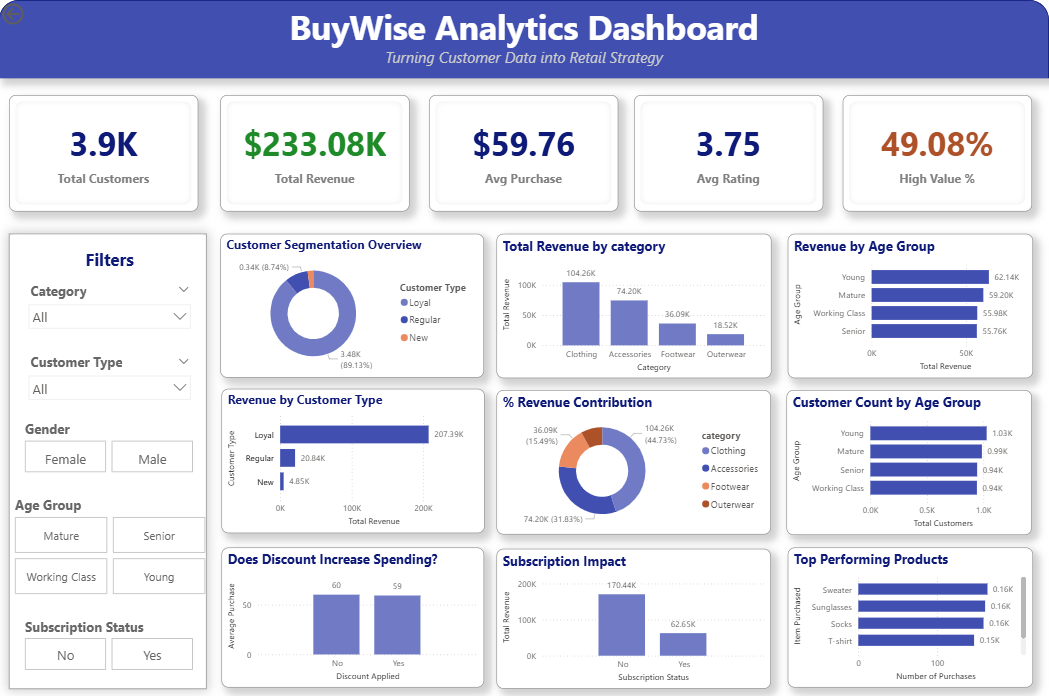

The dashboard page shown, as its layout file describes it:
{"tool":"powerbi","page":{"name":"BuyWise Analytics Dashboard","canvas":[1500,1000],"ordinal":0},"visuals":[{"type":"shape","box":[0,0,1500,112.3],"z":0},{"type":"textbox","box":[0,63.2,1500,49.1],"z":1000},{"type":"cardVisual","fields":{"Data":["customer.Total Customers"]},"box":[14,136,270,166],"z":2000},{"type":"cardVisual","fields":{"Data":["customer.High Value %"]},"box":[1206,136,270,166],"z":3000},{"type":"cardVisual","fields":{"Data":["customer.Avg Purchase"]},"box":[614,136,270,166],"z":4000},{"type":"cardVisual","fields":{"Data":["customer.Total Revenue"]},"box":[316,136,270,166],"z":5000},{"type":"cardVisual","fields":{"Data":["customer.Avg Rating"]},"box":[908,136,270,166],"z":6000},{"type":"textbox","box":[0,0,1500,73.7],"z":7000},{"type":"shape","box":[14.3,333.9,282.1,650],"z":8000},{"type":"advancedSlicerVisual","fields":{"Values":["customer.gender"]},"box":[32.1,600,251.8,80.4],"z":9000},{"type":"advancedSlicerVisual","title":"Age Group","fields":{"Values":["customer.age_group"]},"box":[17.9,708.9,282.1,146.4],"z":10000},{"type":"advancedSlicerVisual","title":"Subscription Status","fields":{"Values":["customer.subscription_status"]},"box":[32.1,882.1,251.8,80.4],"z":11000},{"type":"slicer","fields":{"Values":["customer.category"]},"box":[32.1,398.2,251.8,80.4],"z":12000},{"type":"slicer","fields":{"Values":["customer.customer_type"]},"box":[32.1,500,251.8,80.4],"z":13000},{"type":"actionButton","box":[0,0,100,40],"z":14000},{"type":"donutChart","title":"Customer Segmentation Overview","fields":{"Category":["customer.customer_type"],"Y":["customer.Total Customers"]},"box":[315.7,334.3,377.1,205.7],"z":15000},{"type":"clusteredBarChart","title":"Revenue by Customer Type","fields":{"Category":["customer.customer_type"],"Y":["customer.Total Revenue"]},"box":[317,556,376,206],"z":16000},{"type":"clusteredColumnChart","fields":{"Category":["customer.category"],"Y":["customer.Total Revenue"]},"box":[711.3,333.3,392.7,206.7],"z":17000},{"type":"donutChart","title":"% Revenue Contribution","fields":{"Category":["customer.category"],"Y":["customer.Total Revenue"]},"box":[710.8,556.9,392.3,206.2],"z":18000},{"type":"clusteredBarChart","title":"Revenue by Age Group","fields":{"Category":["customer.age_group"],"Y":["customer.Total Revenue"]},"box":[1126.2,333.8,350.8,206.2],"z":19000},{"type":"clusteredBarChart","title":"Customer Count by Age Group","fields":{"Category":["customer.age_group"],"Y":["customer.Total Customers"]},"box":[1125.9,556.9,350,206.9],"z":20000},{"type":"clusteredColumnChart","title":"Does Discount Increase Spending?","fields":{"Category":["customer.discount_applied"],"Y":["customer.Avg Purchase"]},"box":[317.5,782.5,375.4,200],"z":21000},{"type":"clusteredColumnChart","title":"Subscription Impact","fields":{"Category":["customer.subscription_status"],"Y":["customer.Total Revenue"]},"box":[710,783.3,391.7,200],"z":22000},{"type":"clusteredBarChart","title":"Top Performing Products","fields":{"Category":["customer.item_purchased"],"Y":["customer.Total Customers"]},"box":[1126,783,350,200],"z":23000},{"type":"textbox","box":[32.1,350,251.8,48.2],"z":24000}]}

Visuals, with their boxes in screenshot pixels (x1, y1, x2, y2), scaled from the page's 1500x1000 canvas onto the 1049x696 screenshot:
shape: bbox(0, 0, 1048, 78)
textbox: bbox(0, 44, 1048, 78)
cardVisual - customer.Total Customers: bbox(10, 95, 199, 210)
cardVisual - customer.High Value %: bbox(843, 95, 1032, 210)
cardVisual - customer.Avg Purchase: bbox(429, 95, 618, 210)
cardVisual - customer.Total Revenue: bbox(221, 95, 410, 210)
cardVisual - customer.Avg Rating: bbox(635, 95, 824, 210)
textbox: bbox(0, 0, 1048, 51)
shape: bbox(10, 232, 207, 685)
advancedSlicerVisual - customer.gender: bbox(22, 418, 199, 474)
"Age Group" advancedSlicerVisual: bbox(13, 493, 210, 595)
"Subscription Status" advancedSlicerVisual: bbox(22, 614, 199, 670)
slicer - customer.category: bbox(22, 277, 199, 333)
slicer - customer.customer_type: bbox(22, 348, 199, 404)
actionButton: bbox(0, 0, 70, 28)
"Customer Segmentation Overview" donutChart: bbox(221, 233, 484, 376)
"Revenue by Customer Type" clusteredBarChart: bbox(222, 387, 485, 530)
clusteredColumnChart - customer.category x customer.Total Revenue: bbox(497, 232, 772, 376)
"% Revenue Contribution" donutChart: bbox(497, 388, 771, 531)
"Revenue by Age Group" clusteredBarChart: bbox(788, 232, 1033, 376)
"Customer Count by Age Group" clusteredBarChart: bbox(787, 388, 1032, 532)
"Does Discount Increase Spending?" clusteredColumnChart: bbox(222, 545, 485, 684)
"Subscription Impact" clusteredColumnChart: bbox(497, 545, 770, 684)
"Top Performing Products" clusteredBarChart: bbox(787, 545, 1032, 684)
textbox: bbox(22, 244, 199, 277)
